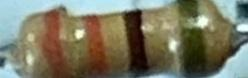Brown: (122, 10, 153, 75)
Orange: (41, 9, 75, 78), (82, 13, 112, 78)
Side-Gold: (174, 0, 207, 74)
